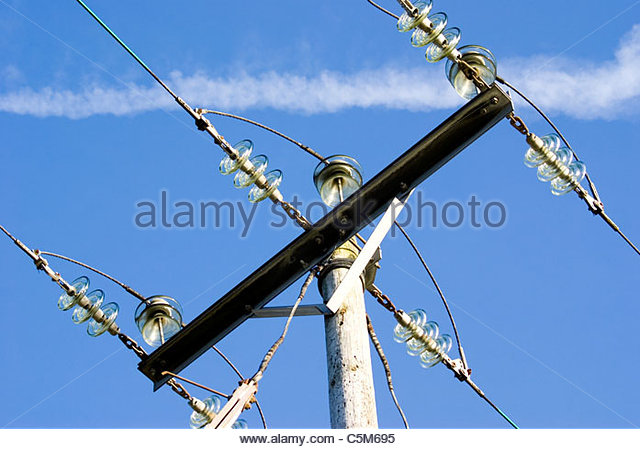isolator: (217, 138, 284, 203), (395, 1, 462, 64), (522, 133, 588, 196), (57, 275, 120, 338), (391, 307, 453, 369), (188, 395, 248, 428)
